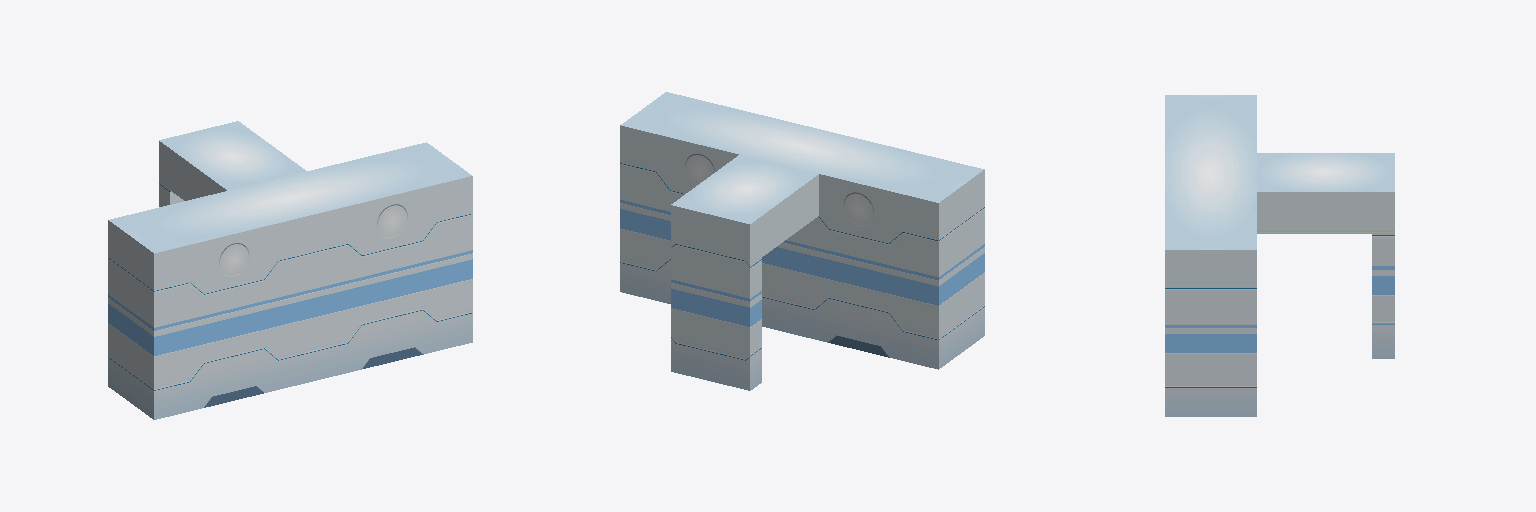
The picture shows the model from 3 angles: view 1: azimuth 30°, elevation 25°; view 2: azimuth 150°, elevation 25°; view 3: azimuth 270°, elevation 25°; orthographic projection.
Parts seen in each view (by area): view 1: mesh02; view 2: mesh02; view 3: mesh02.
Part boxes in pixels (x1,y1,x2,y2): mesh02: (108, 121, 472, 419); mesh02: (620, 92, 984, 390); mesh02: (1165, 95, 1394, 416).
Bounding box in the file's own units: 80 × 40 × 50.
1 materials, 1 textured.